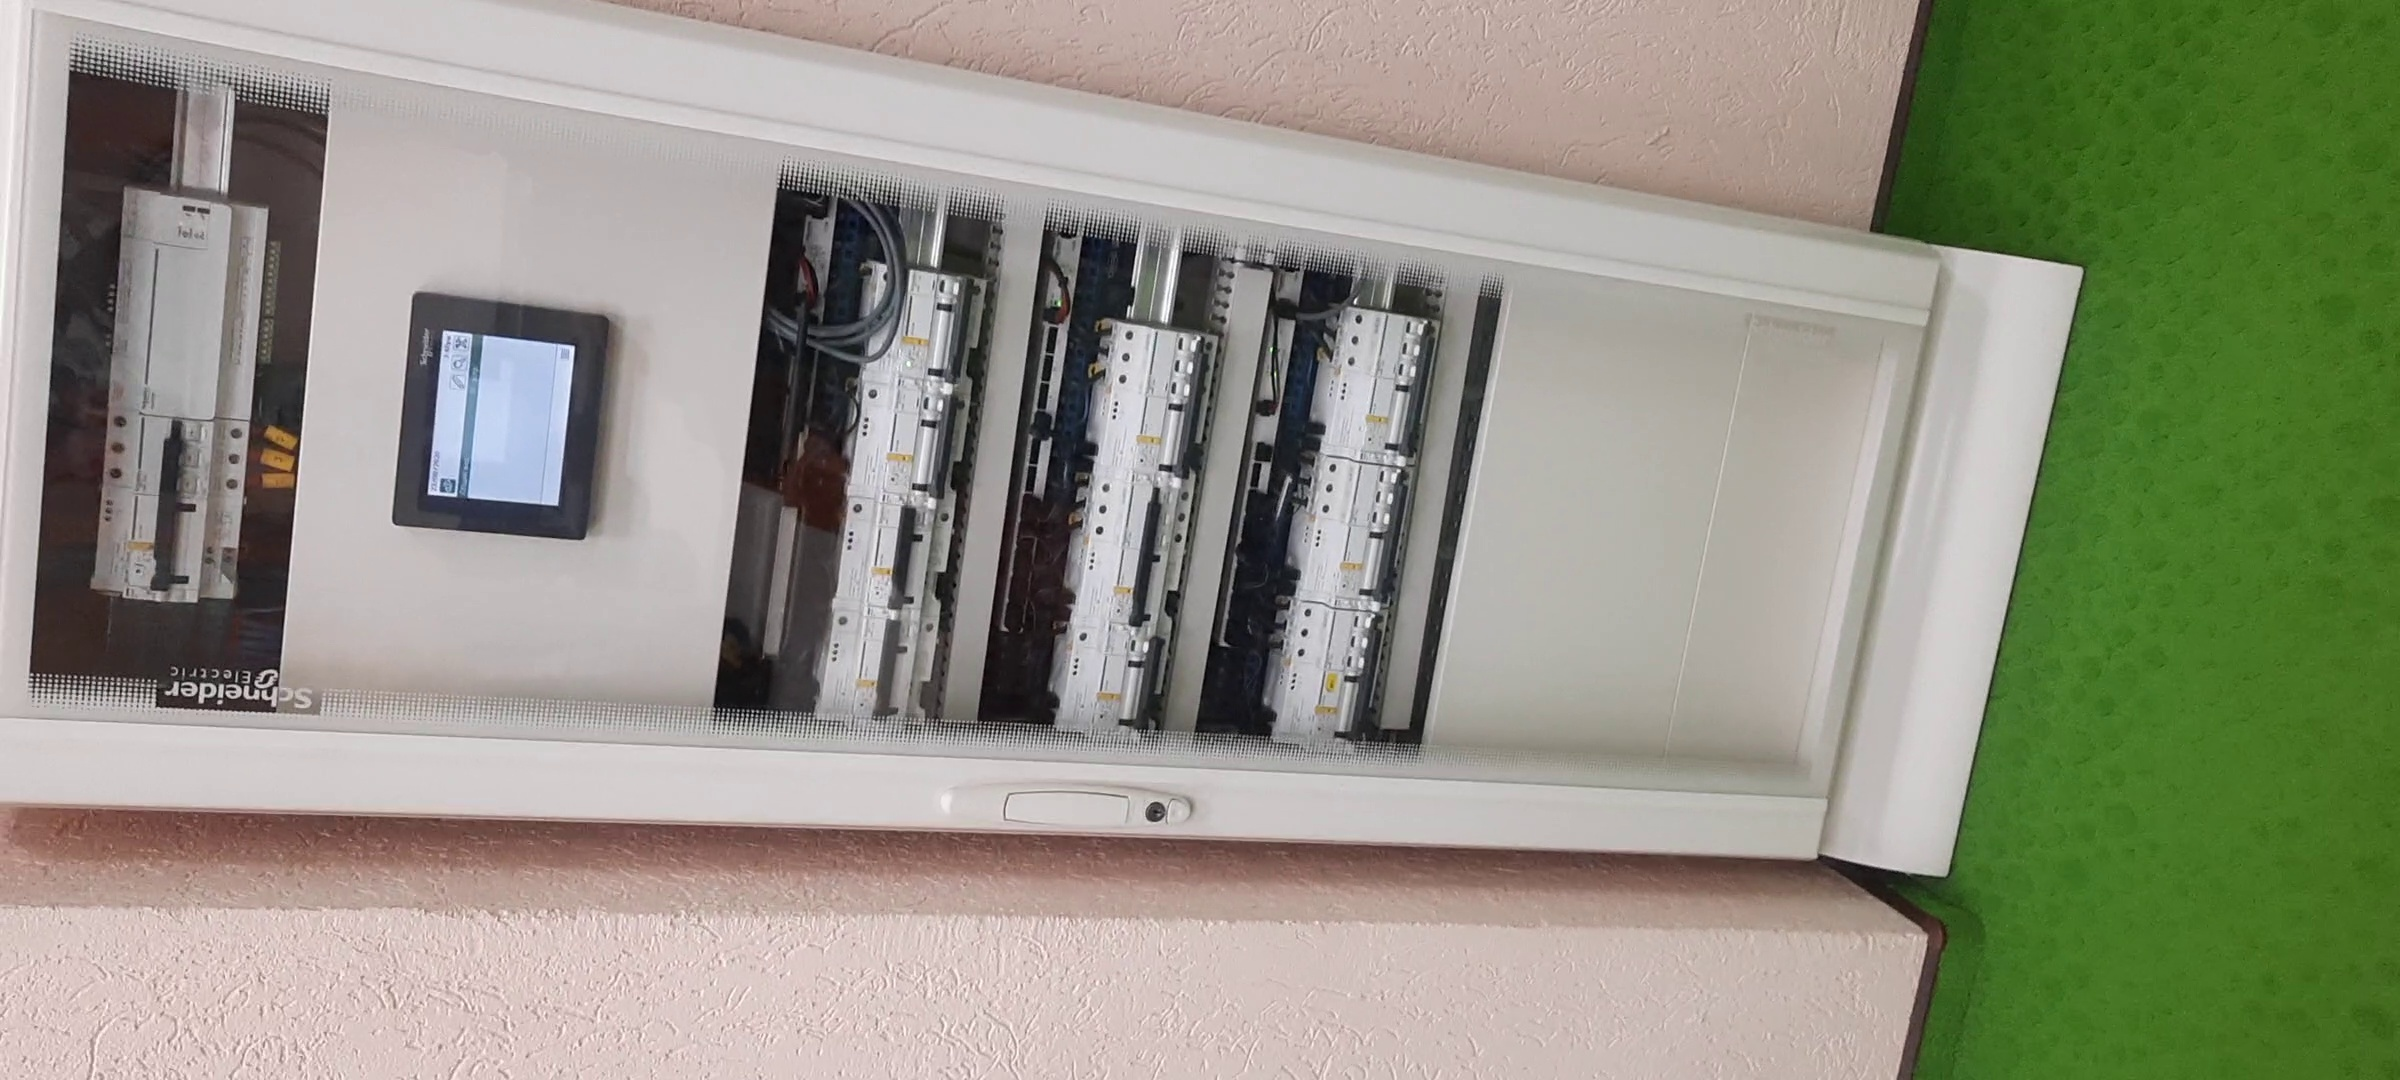smart_stand: (2, 5, 2036, 857)
